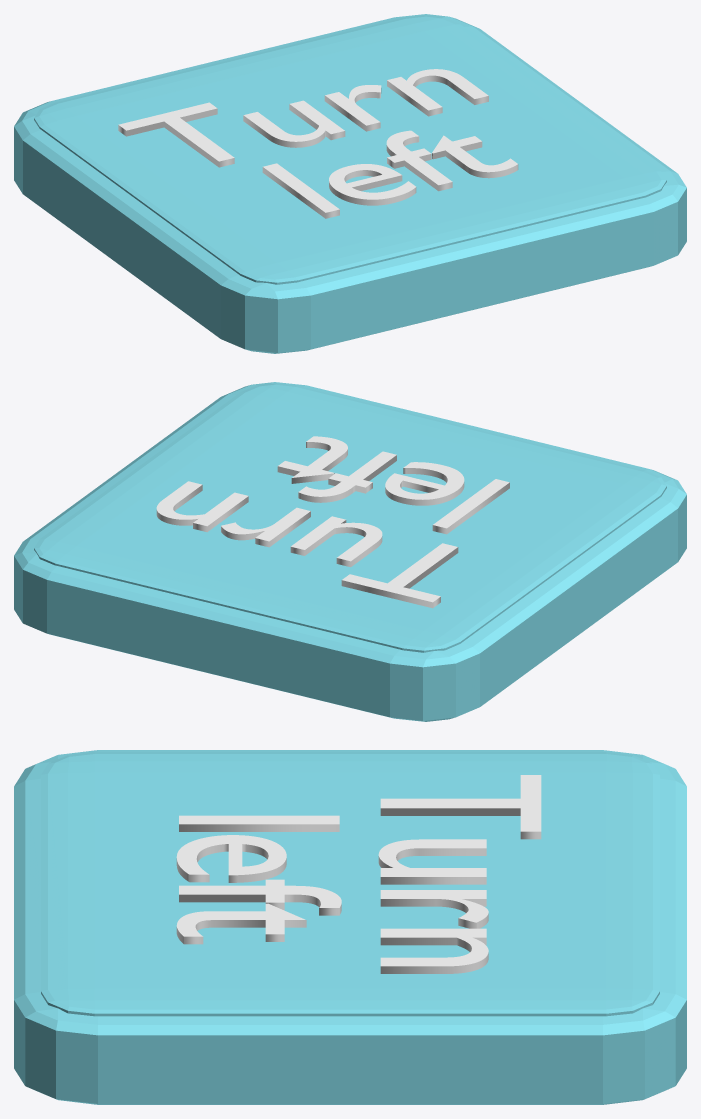
The model's file is turnleft（改）.fbx.
3 views of the same model, one above another, from view 1: azimuth 30°, elevation 25°; view 2: azimuth 150°, elevation 25°; view 3: azimuth 270°, elevation 25° (orthographic). The views are drawn at different scales.
Parts seen in each view (by area): view 1: 立方体.001, 立方体, Turn_Text, left_Text; view 2: 立方体.001, 立方体, Turn_Text, left_Text; view 3: 立方体.001, 立方体, Turn_Text, left_Text.
Part boxes in pixels (x1,y1,x2,y2): 立方体.001: [34, 15, 666, 284]; 立方体: [14, 14, 686, 353]; Turn_Text: [118, 69, 488, 167]; left_Text: [262, 130, 518, 218]; 立方体.001: [34, 383, 666, 652]; 立方体: [14, 382, 686, 721]; Turn_Text: [156, 481, 458, 608]; left_Text: [277, 436, 509, 534]; 立方体.001: [41, 752, 659, 1016]; 立方体: [14, 750, 686, 1104]; Turn_Text: [378, 775, 541, 973]; left_Text: [176, 815, 341, 944].
Size of the model in its own units: 200 by 32.9 by 200.
